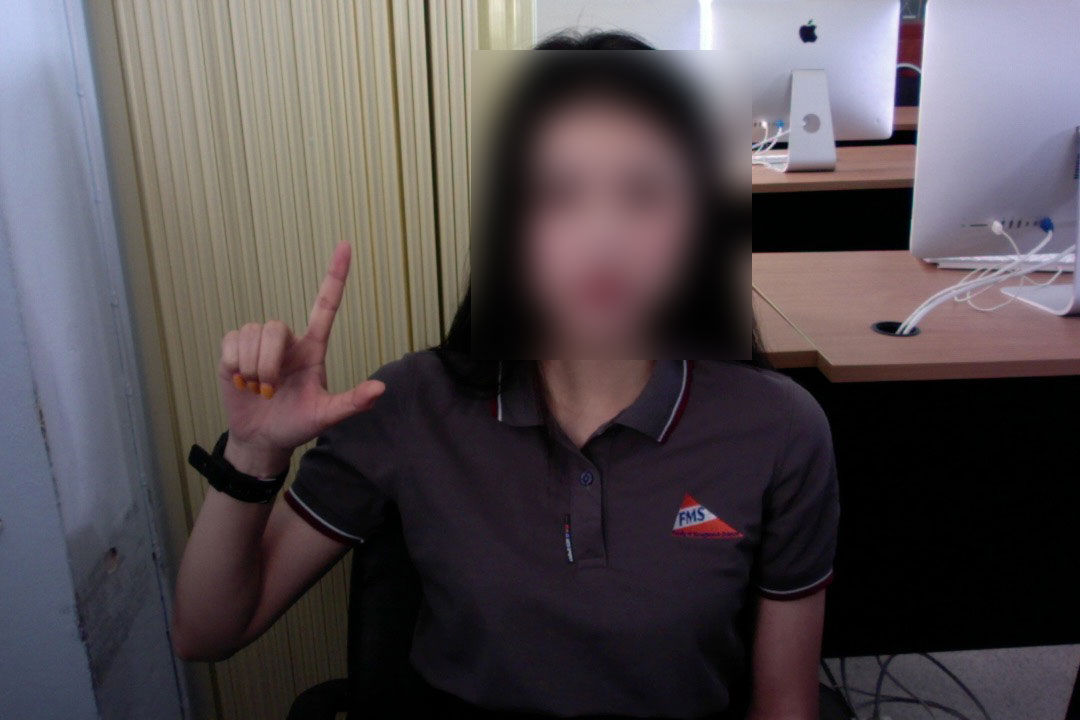lor: (197, 234, 390, 476)
